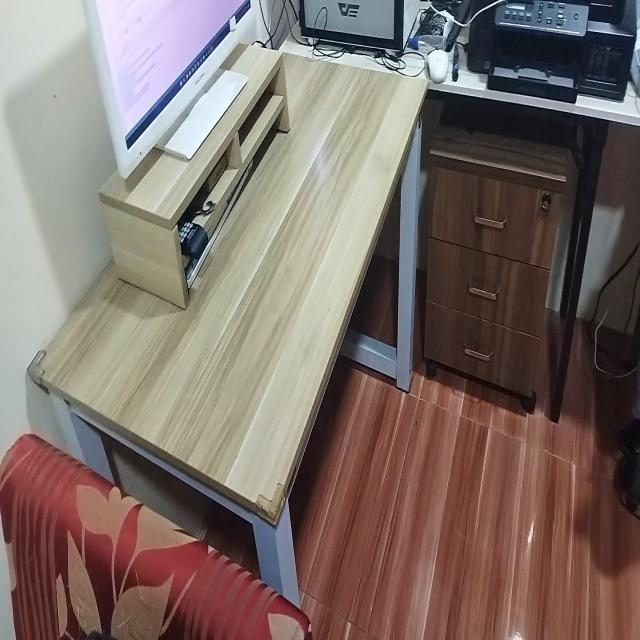table: (25, 34, 422, 554)
